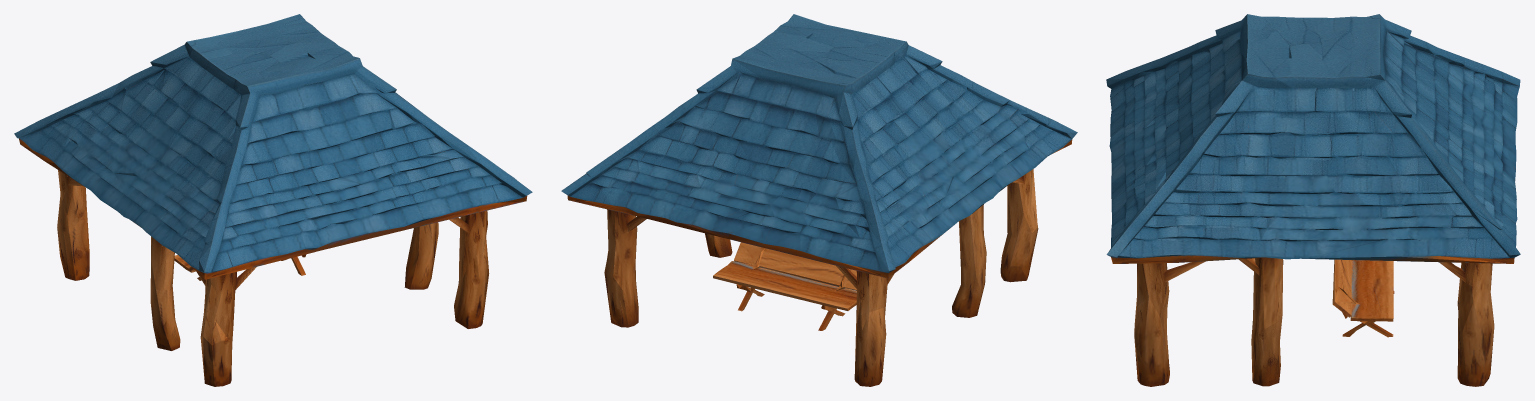
Rendered from shelter.glb.
3 renders of one model, left to right at view 1: azimuth 30°, elevation 25°; view 2: azimuth 150°, elevation 25°; view 3: azimuth 270°, elevation 25°, orthographic. The views are drawn at different scales.
Size of the model in its own units: 1.89 by 1.36 by 1.88.
1 material, 1 textured.
